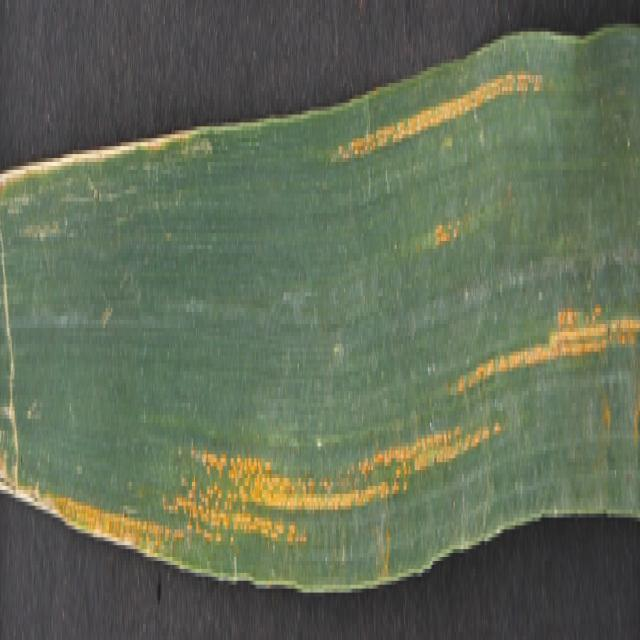leaf rust: (47, 253, 637, 565), (320, 67, 551, 170)
